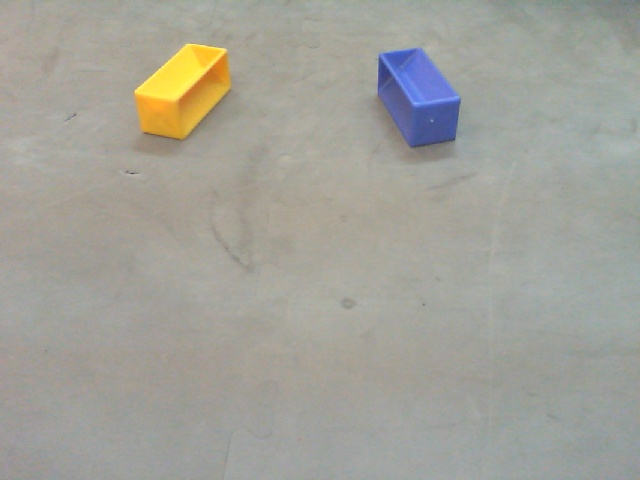BlueSample: (372, 46, 462, 150)
YellowSample: (130, 40, 235, 144)
